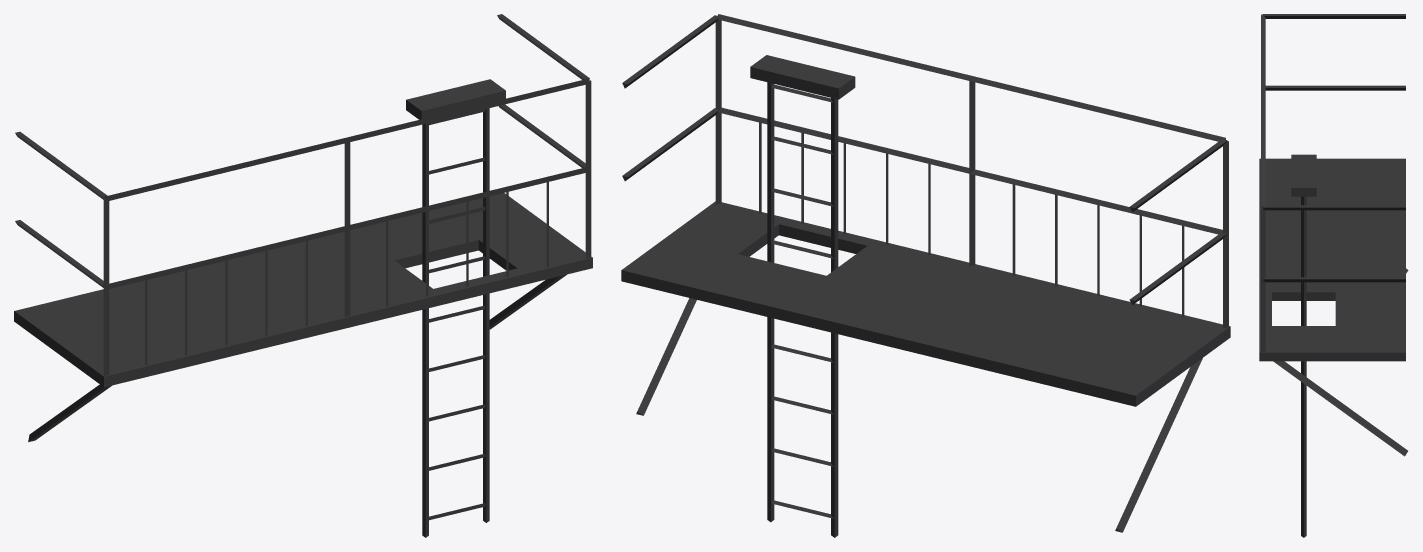
The model's file is fire_escape_ladder.glb.
The picture shows the model from 3 angles, left to right: view 1: azimuth 30°, elevation 25°; view 2: azimuth 150°, elevation 25°; view 3: azimuth 270°, elevation 25°; orthographic projection. The views are drawn at different scales.
Visible parts, largest first — view 1: fire_escape_ladder; view 2: fire_escape_ladder; view 3: fire_escape_ladder.
Boxes of the visible parts, bbox=[...] form: fire_escape_ladder: bbox=[14, 14, 592, 537]; fire_escape_ladder: bbox=[621, 14, 1230, 537]; fire_escape_ladder: bbox=[1259, 14, 1408, 537].
Bounding box in the file's own units: 2.9 × 2.52 × 0.9406.
Materials: 1 (1 with a texture image).
